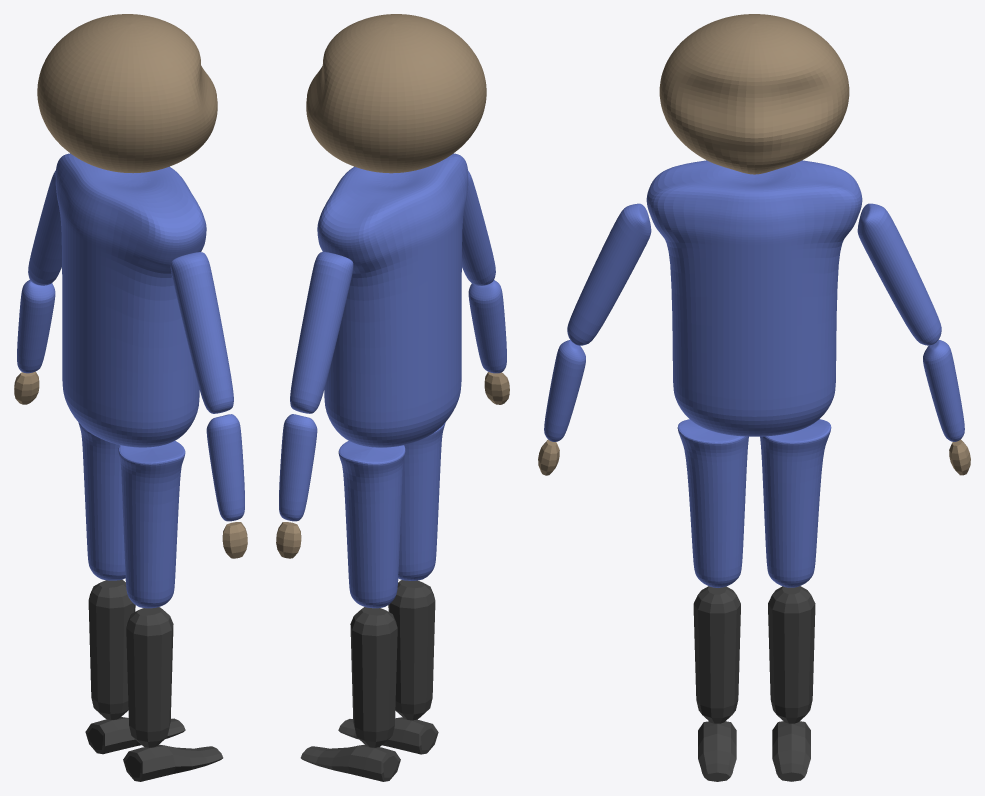
Rendered from Character_Player.fbx.
3 views of the same model, side by side, from view 1: azimuth 30°, elevation 25°; view 2: azimuth 150°, elevation 25°; view 3: azimuth 270°, elevation 25° (orthographic).
Parts seen in each view (by area): view 1: Torso, Head, Right Upper Leg, Right Upper Arm, Right Lower Leg, Left Upper Leg, Left Lower Leg, Right Lower Arm, Left Lower Arm, Right Foot, Left Upper Arm, Left Foot (+2 smaller); view 2: Torso, Head, Left Upper Leg, Left Upper Arm, Left Lower Leg, Right Upper Leg, Right Lower Leg, Left Lower Arm, Right Lower Arm, Left Foot, Right Upper Arm, Right Foot (+2 smaller); view 3: Torso, Head, Right Upper Leg, Left Upper Leg, Right Lower Leg, Left Lower Leg, Right Upper Arm, Left Upper Arm, Right Lower Arm, Left Lower Arm, Right Foot, Left Foot.
Part boxes in pixels (bbox=[...]): Torso: bbox=[55, 153, 206, 447]; Head: bbox=[37, 14, 217, 173]; Right Upper Leg: bbox=[118, 441, 185, 608]; Right Upper Arm: bbox=[170, 252, 233, 413]; Right Lower Leg: bbox=[126, 607, 173, 747]; Left Upper Leg: bbox=[78, 422, 125, 580]; Left Lower Leg: bbox=[88, 579, 135, 719]; Right Lower Arm: bbox=[206, 414, 244, 521]; Left Lower Arm: bbox=[17, 280, 55, 373]; Right Foot: bbox=[123, 744, 223, 781]; Left Upper Arm: bbox=[28, 170, 61, 285]; Left Foot: bbox=[85, 717, 185, 754]; Torso: bbox=[317, 153, 468, 447]; Head: bbox=[306, 14, 486, 173]; Left Upper Leg: bbox=[338, 441, 405, 608]; Left Upper Arm: bbox=[290, 252, 353, 413]; Left Lower Leg: bbox=[350, 607, 397, 747]; Right Upper Leg: bbox=[398, 422, 445, 580]; Right Lower Leg: bbox=[388, 580, 435, 720]; Left Lower Arm: bbox=[279, 414, 317, 521]; Right Lower Arm: bbox=[468, 280, 506, 373]; Left Foot: bbox=[300, 744, 400, 781]; Right Upper Arm: bbox=[462, 170, 495, 285]; Right Foot: bbox=[338, 717, 438, 754]; Torso: bbox=[646, 160, 862, 436]; Head: bbox=[659, 14, 849, 174]; Right Upper Leg: bbox=[677, 419, 748, 587]; Left Upper Leg: bbox=[760, 419, 831, 587]; Right Lower Leg: bbox=[693, 586, 740, 723]; Left Lower Leg: bbox=[768, 586, 815, 723]; Right Upper Arm: bbox=[567, 203, 651, 345]; Left Upper Arm: bbox=[857, 203, 941, 345]; Right Lower Arm: bbox=[544, 340, 585, 441]; Left Lower Arm: bbox=[923, 340, 964, 441]; Right Foot: bbox=[698, 721, 736, 781]; Left Foot: bbox=[772, 721, 810, 781].
Size of the model in its own units: 120 by 532 by 286.
